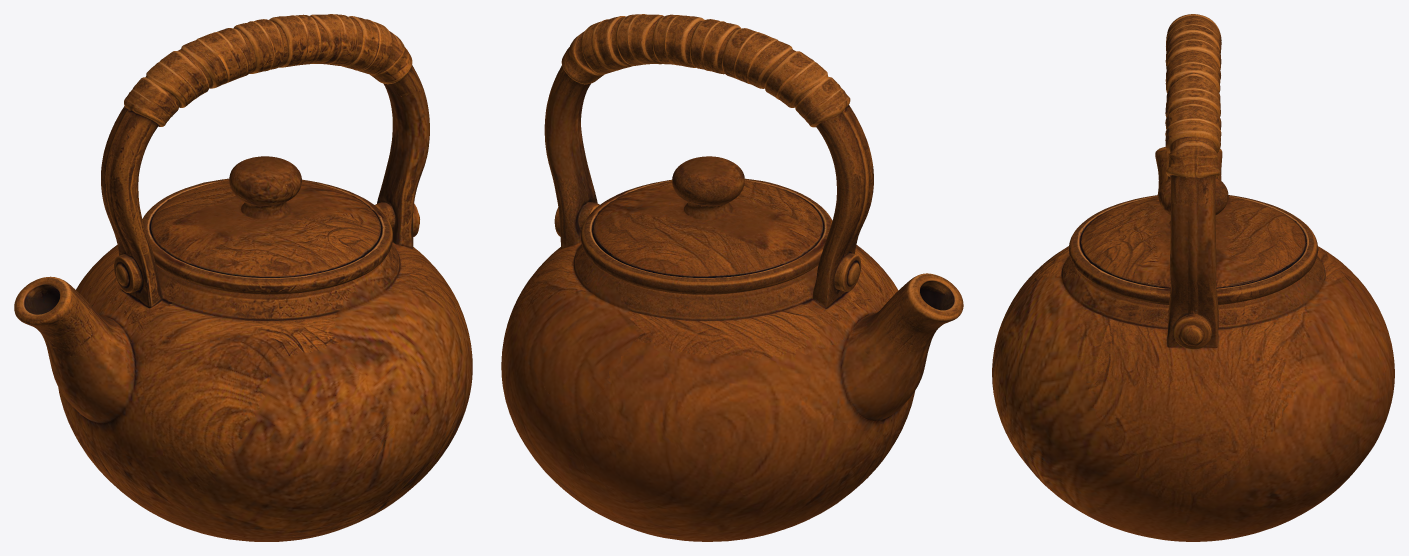
The model's file is kettle.glb.
The picture shows the model from 3 angles, left to right: view 1: azimuth 30°, elevation 25°; view 2: azimuth 150°, elevation 25°; view 3: azimuth 270°, elevation 25°; orthographic projection. The views are drawn at different scales.
Parts seen in each view (by area): view 1: Mesh_0; view 2: Mesh_0; view 3: Mesh_0.
Boxes of the visible parts, left/top/right/bottom form: Mesh_0: left=14, top=14, right=472, bottom=541; Mesh_0: left=501, top=14, right=963, bottom=541; Mesh_0: left=992, top=14, right=1394, bottom=541.
Bounding box in the file's own units: 1.71 × 1.9 × 1.46.
1 material, 1 textured.
